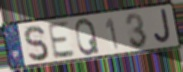1: (105, 16, 119, 50)
3: (124, 11, 149, 50)
E: (46, 20, 77, 61)
J: (153, 8, 172, 45)
Q: (74, 17, 101, 57)
S: (23, 24, 50, 63)
